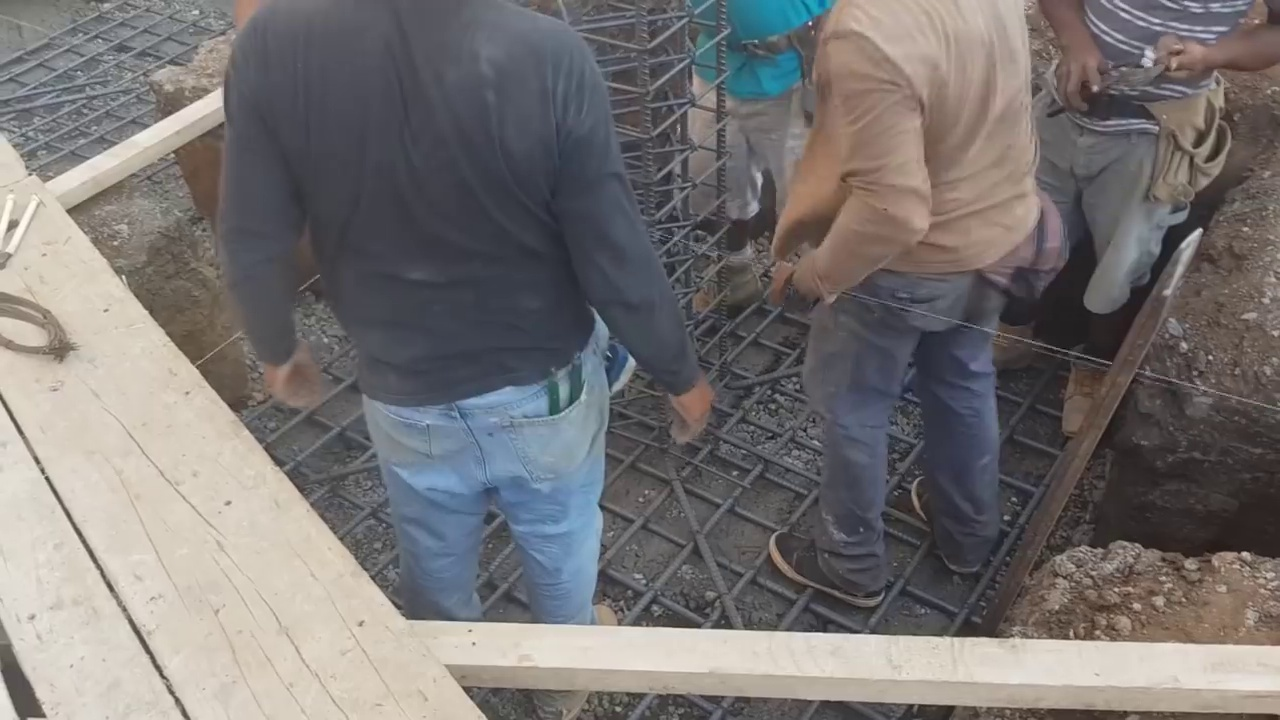person: (188, 17, 698, 633), (764, 0, 1082, 604), (1037, 0, 1274, 389), (682, 0, 824, 333)
